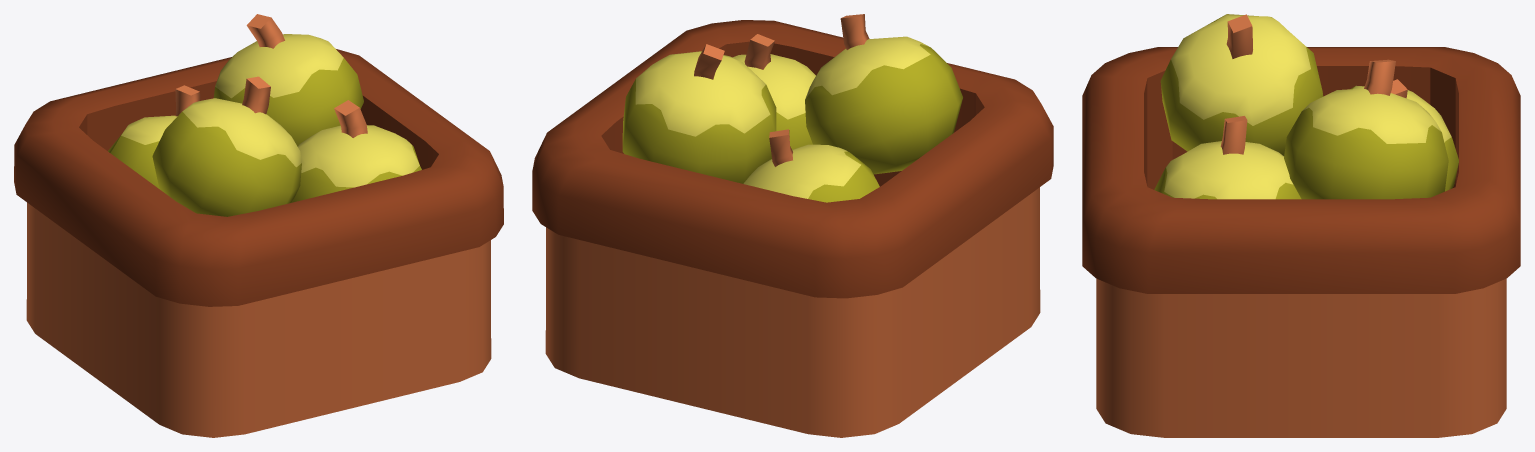
Rendered from basket_small.glb.
3 views of the same model, side by side, from view 1: azimuth 30°, elevation 25°; view 2: azimuth 150°, elevation 25°; view 3: azimuth 270°, elevation 25° (orthographic). The views are drawn at different scales.
Visible parts, largest first — view 1: basket_small; view 2: basket_small; view 3: basket_small.
Boxes of the visible parts, x1,y1,x2,y2 form: basket_small: (14,14,503,437); basket_small: (532,14,1053,437); basket_small: (1082,14,1520,437).
Size of the model in its own units: 0.9879 by 0.7879 by 0.9879.
1 material, 1 textured.
